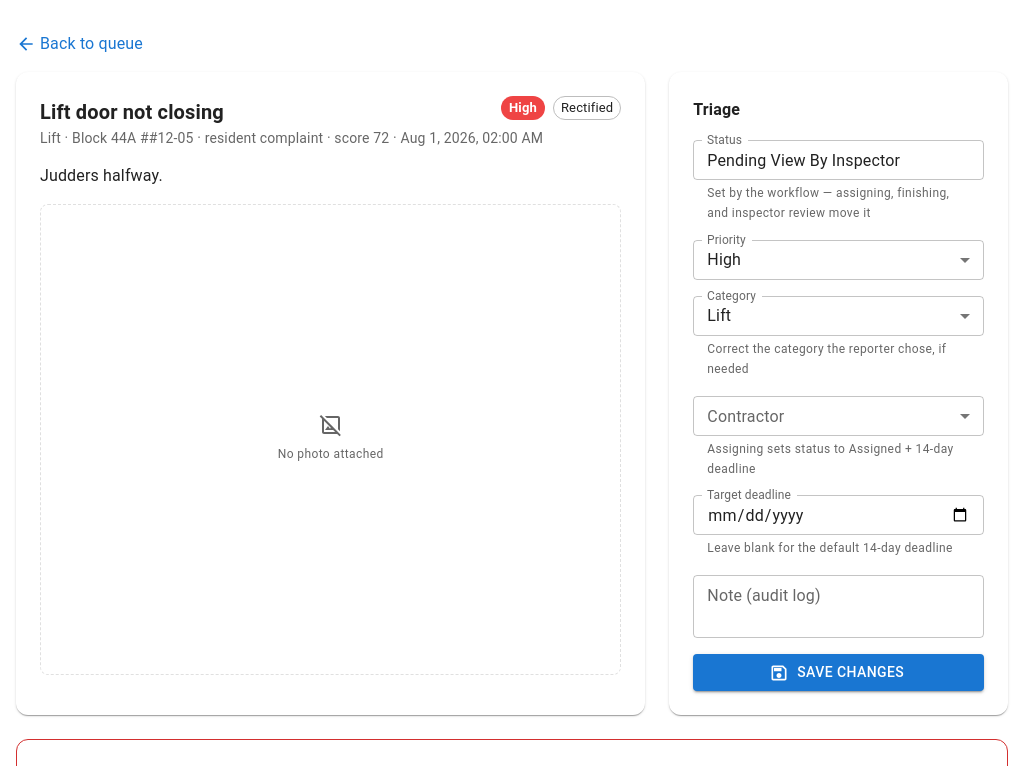
Test: InspectionDetailPage › triage › saving with nothing edited changes nothing and says so
Expected: the heading "Lift door not closing" is shown, [40,96,240,128]
Click the button "Save changes".
click(839, 673)  # box [693,654,984,691]
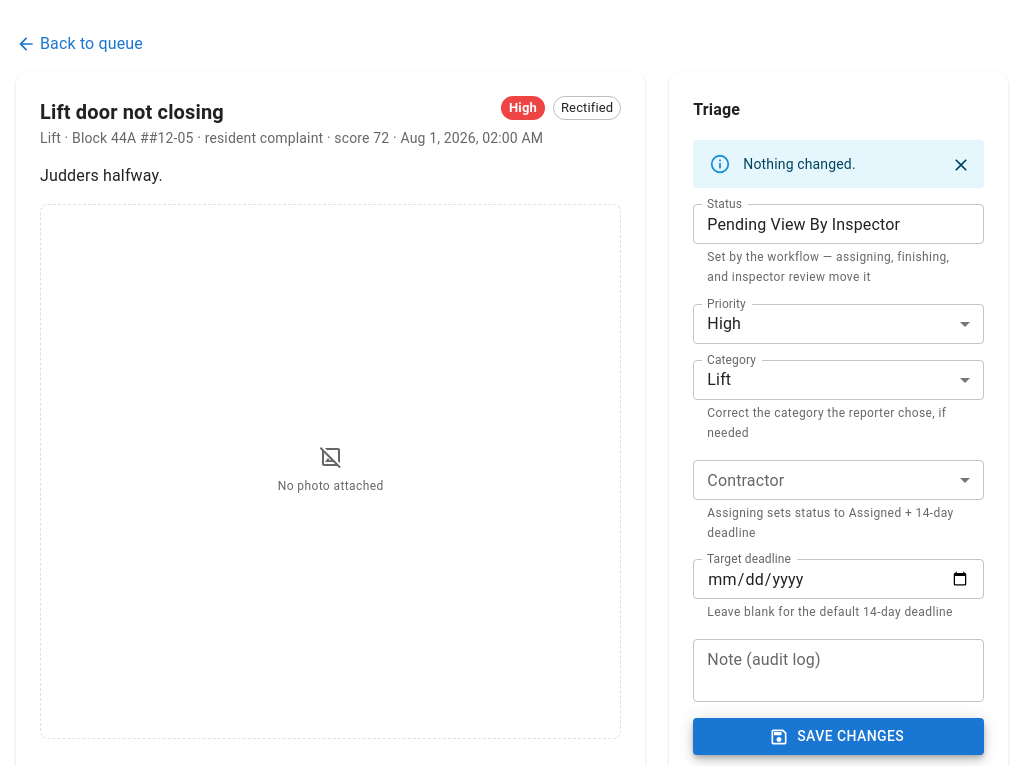
Expected: the text "Nothing changed." is shown, [743,156,856,172]
